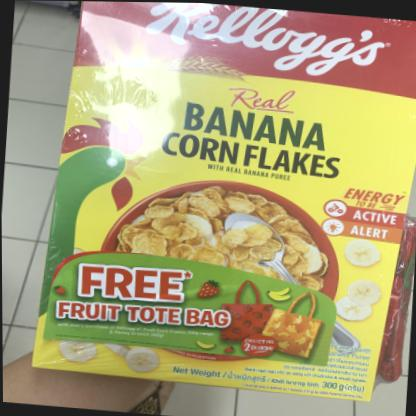cereal box: (26, 0, 415, 407)
